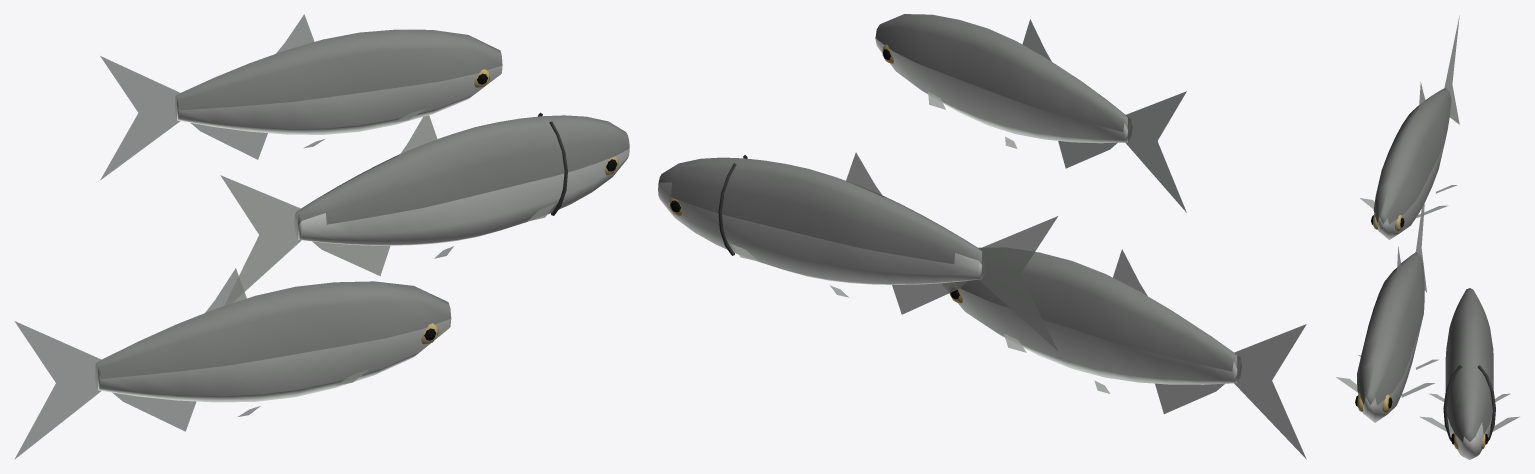
File: lake-tolstolob-shallows-0.glb
3 renders of one model, left to right at view 1: azimuth 30°, elevation 25°; view 2: azimuth 150°, elevation 25°; view 3: azimuth 270°, elevation 25°, orthographic. The views are drawn at different scales.
Parts seen in each view (by area): view 1: lake-tolstolob-shallows-0; view 2: lake-tolstolob-shallows-0; view 3: lake-tolstolob-shallows-0.
Part boxes in pixels (left/top/right/bottom): lake-tolstolob-shallows-0: left=14, top=14, right=629, bottom=459; lake-tolstolob-shallows-0: left=658, top=14, right=1306, bottom=459; lake-tolstolob-shallows-0: left=1336, top=15, right=1519, bottom=459.
Size of the model in its own units: 1.14 by 0.6499 by 0.3239.
